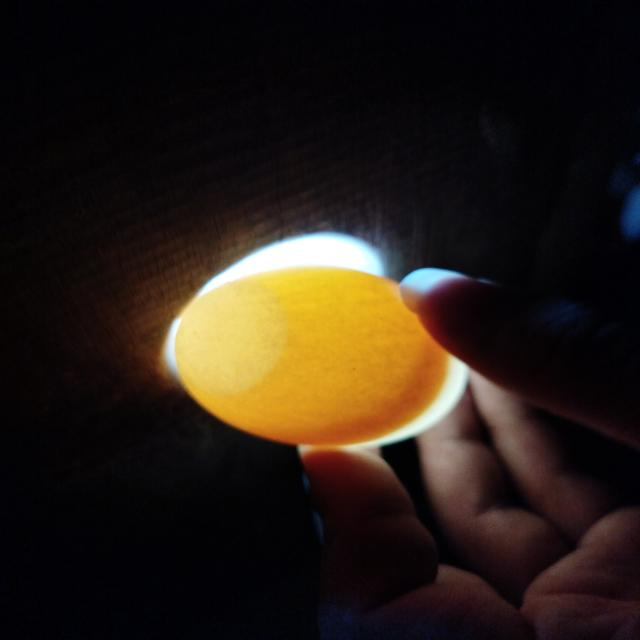Camara de Ar: (176, 279, 285, 392)
Gema Quebrada: (252, 329, 445, 446)
